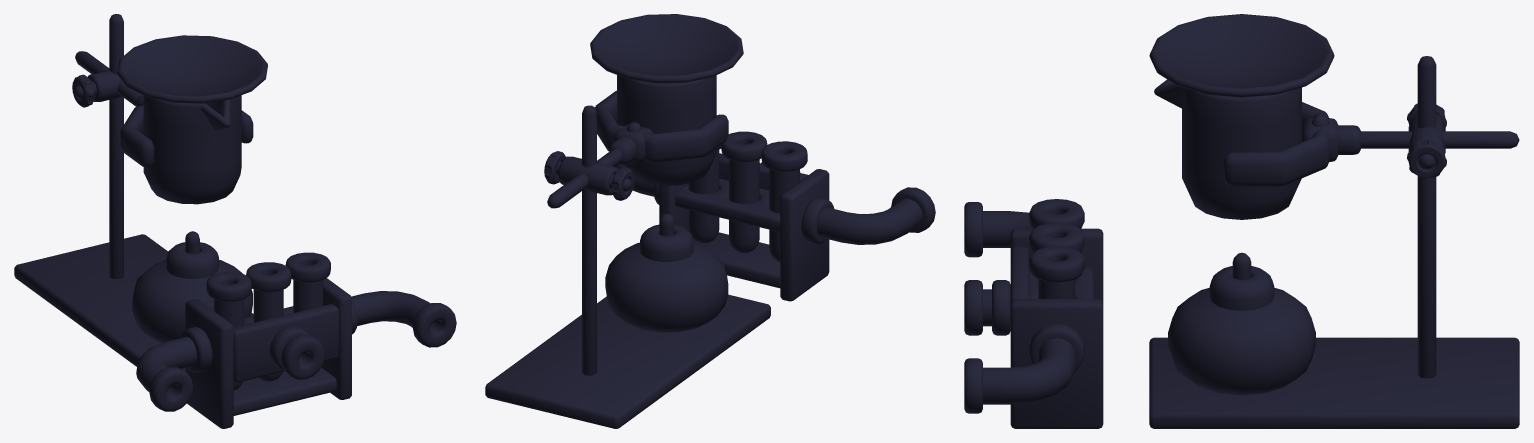
Rendered from Constructing_Heater.fbx.
3 views of the same model, side by side, from view 1: azimuth 30°, elevation 25°; view 2: azimuth 150°, elevation 25°; view 3: azimuth 270°, elevation 25° (orthographic). The views are drawn at different scales.
Parts seen in each view (by area): view 1: Stand_Base001; view 2: Stand_Base001; view 3: Stand_Base001.
Part boxes in pixels (x1=…): Stand_Base001: x1=14, y1=14, x2=456, y2=428; Stand_Base001: x1=485, y1=14, x2=935, y2=428; Stand_Base001: x1=964, y1=14, x2=1519, y2=428.
Bounding box in the file's own units: 230 × 203 × 300.
